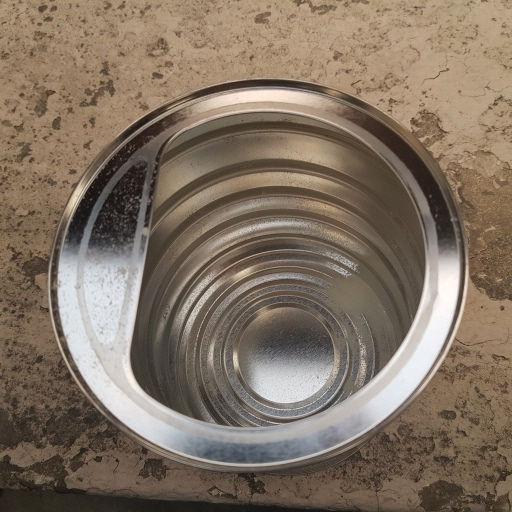Metal_1: (43, 74, 470, 475)
